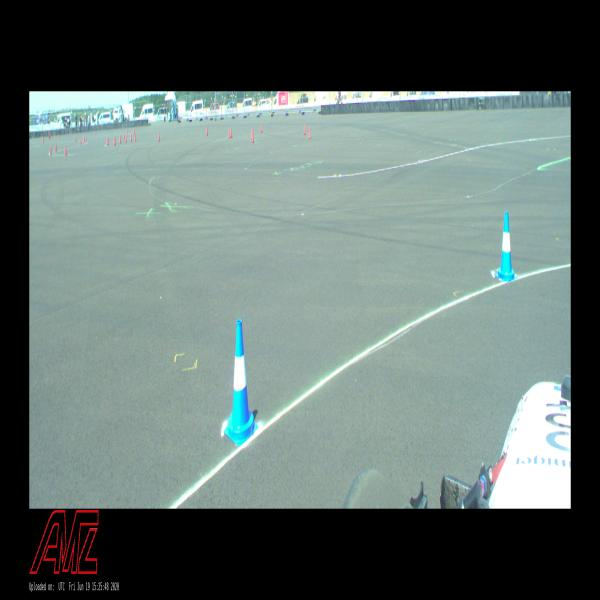blue_cone: (224, 320, 258, 445), (494, 211, 518, 282)
